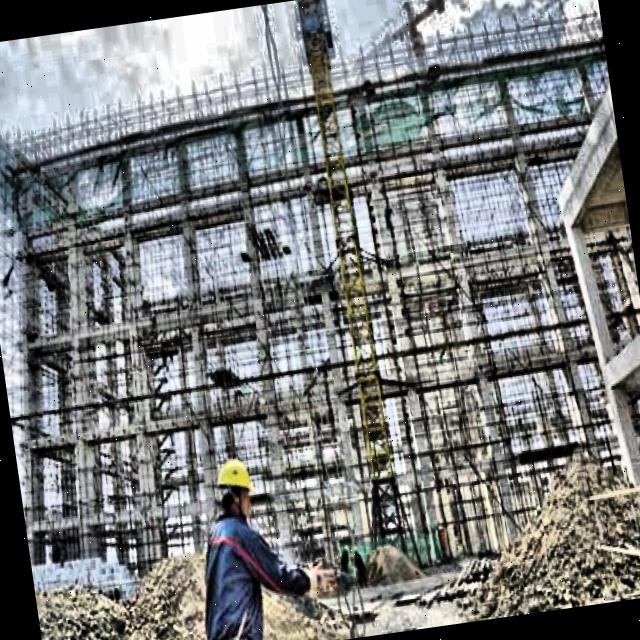helmet: (210, 451, 260, 522)
